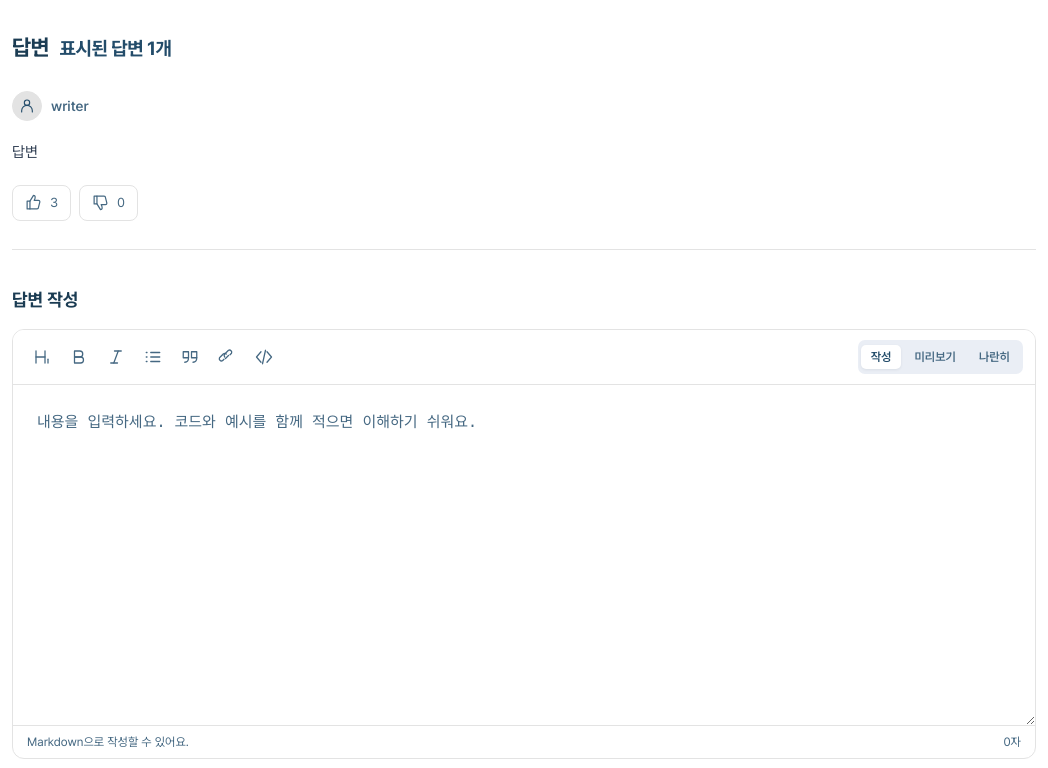
Test case: 답변 비추천을 답변 전용 경로에 저장하고 내 선택을 표시한다
Expected: the button "3" is shown, [12,184,71,220]
Click the button "0".
click(108, 202)  # box [79,184,138,220]
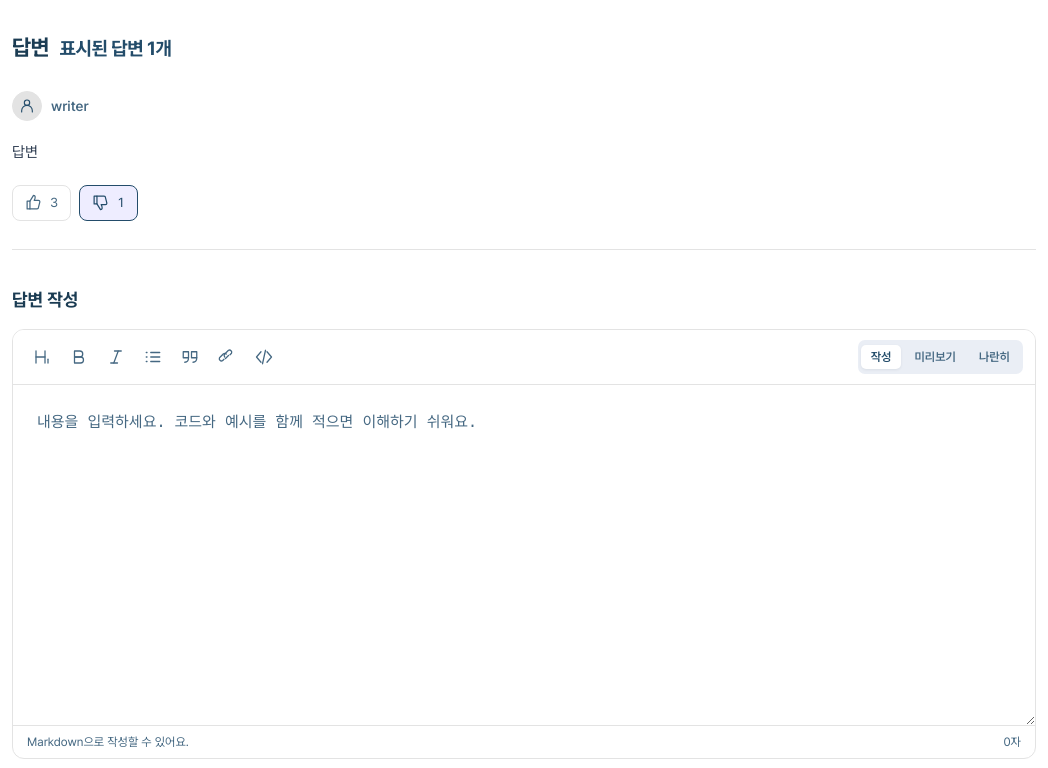
Now the button "1" is shown, box [79,184,138,220]
